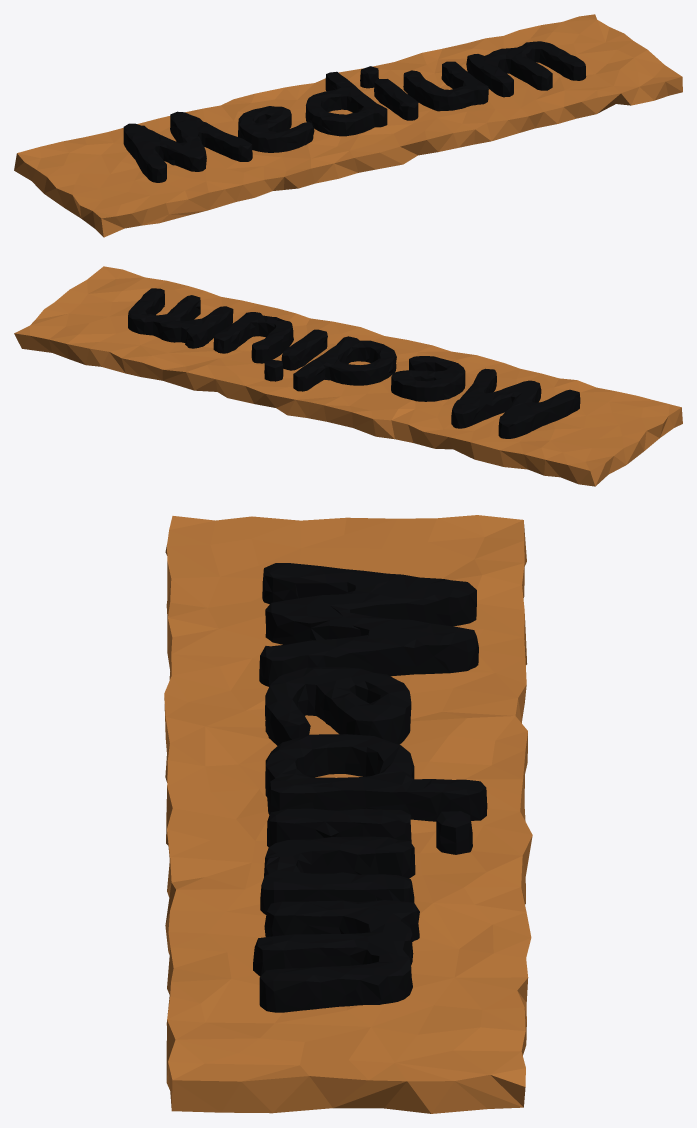
Rendered from medium.fbx.
3 renders of one model, top to bottom at view 1: azimuth 30°, elevation 25°; view 2: azimuth 150°, elevation 25°; view 3: azimuth 270°, elevation 25°, orthographic. The views are drawn at different scales.
Parts seen in each view (by area): view 1: Куб.011; view 2: Куб.011; view 3: Куб.011.
Part boxes in pixels (x1,y1,x2,y2): Куб.011: (14, 14, 682, 237); Куб.011: (14, 266, 682, 486); Куб.011: (164, 515, 532, 1113).
Bounding box in the file's own units: 339 × 19.06 × 93.17.
